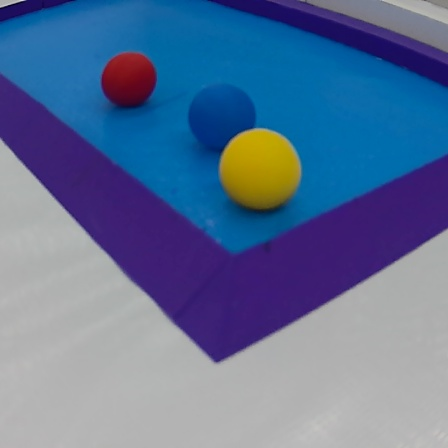blue: (188, 83, 260, 150)
blue_aim: (2, 0, 448, 367)
red: (96, 47, 161, 107)
yellow: (221, 126, 302, 211)
